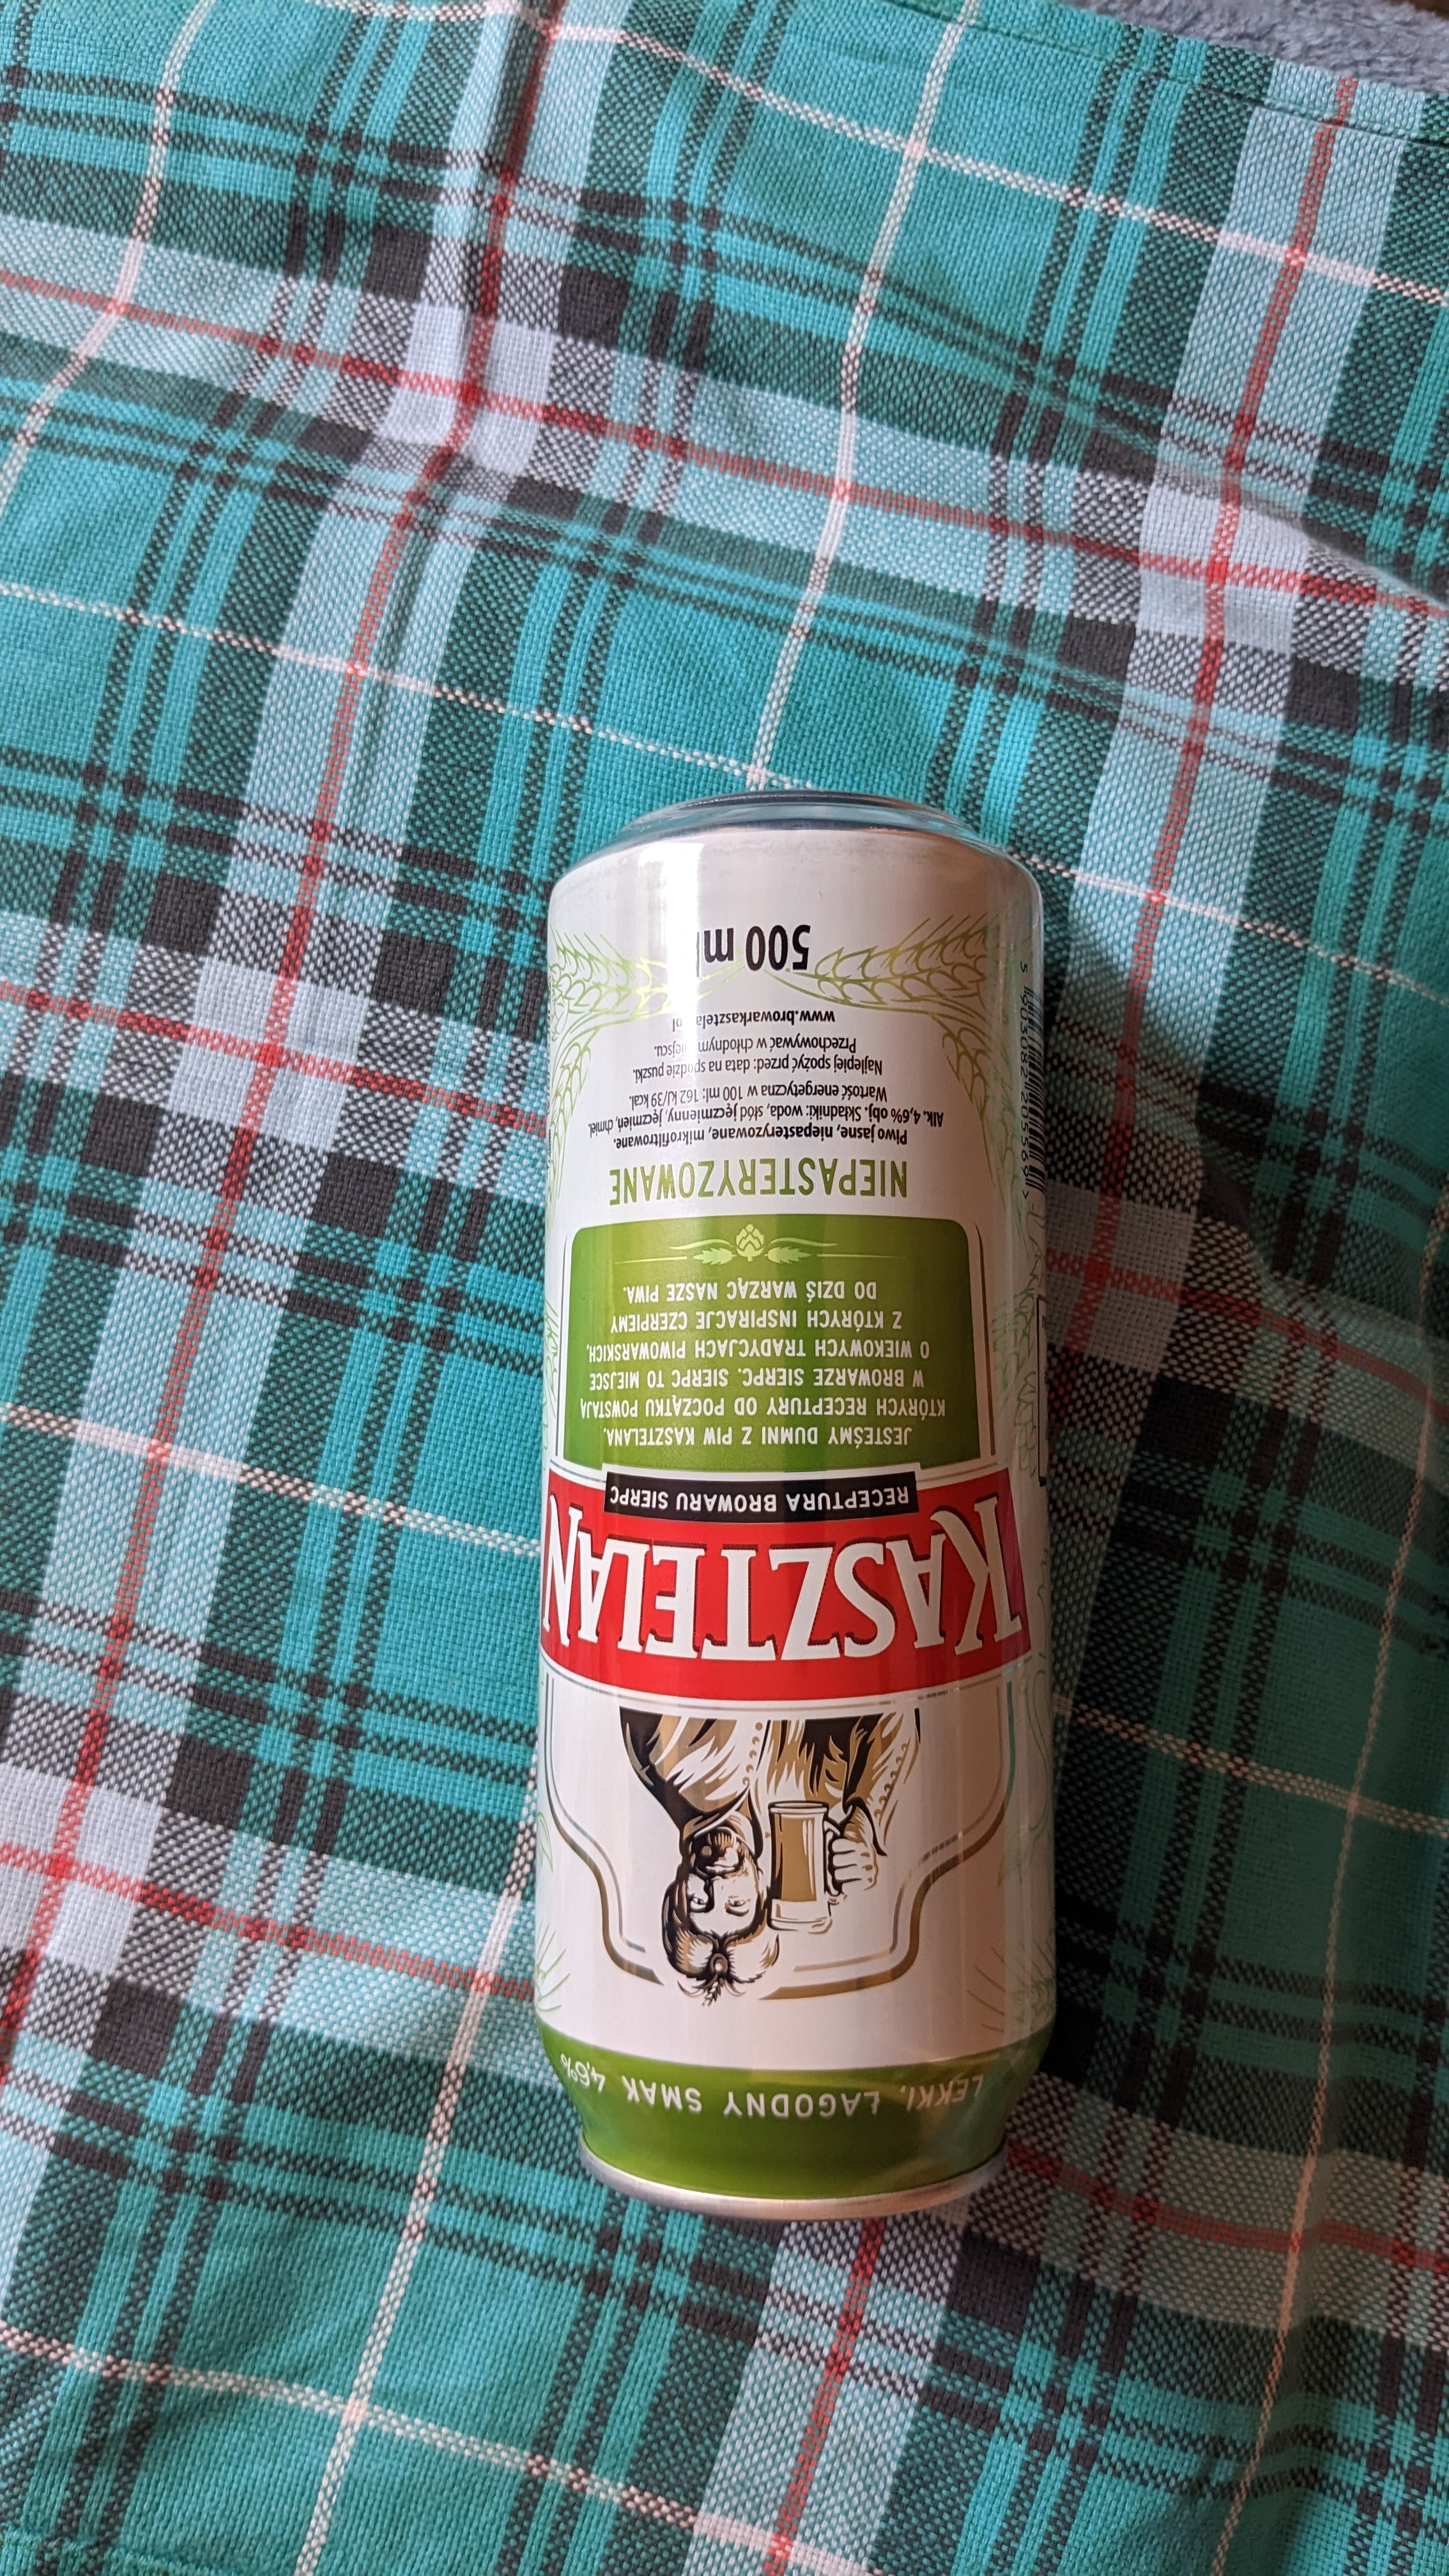kasztelan: (511, 784, 1150, 2249)
